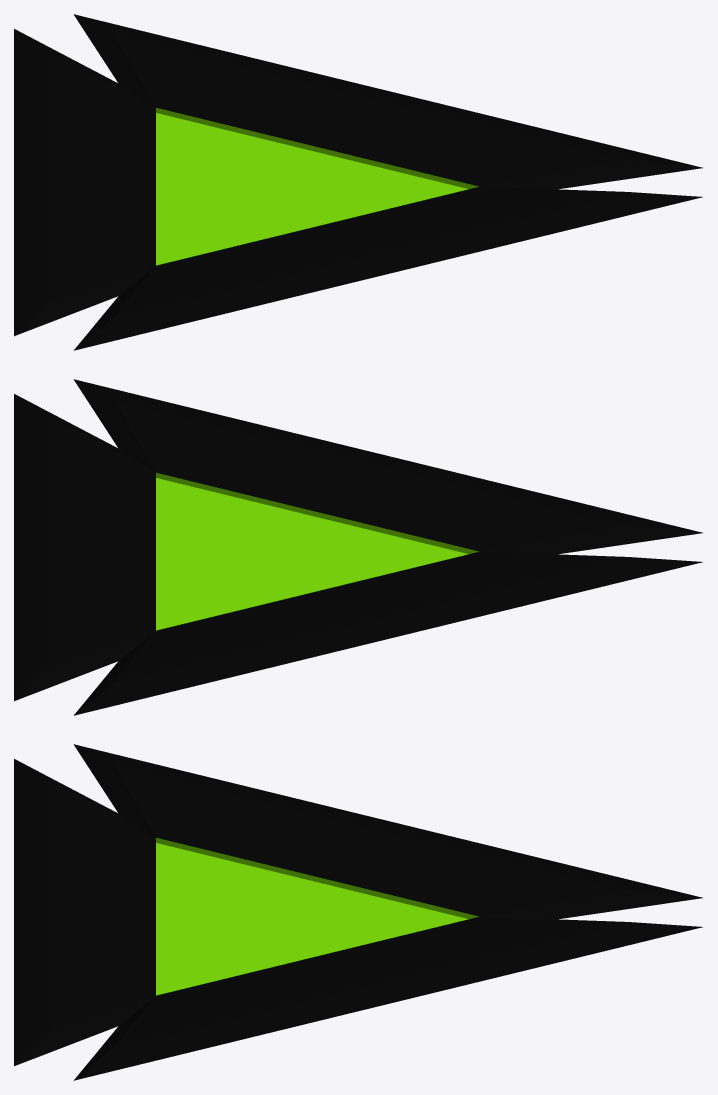
The model's file is Pad.fbx.
3 views of the same model, one above another, from view 1: azimuth 30°, elevation 25°; view 2: azimuth 150°, elevation 25°; view 3: azimuth 270°, elevation 25° (orthographic).
Visible parts, largest first — view 1: SpiderLaunchPad; view 2: SpiderLaunchPad; view 3: SpiderLaunchPad.
Boxes of the visible parts, x1,y1,x2,y2 form: SpiderLaunchPad: (14,14,702,350); SpiderLaunchPad: (14,379,702,715); SpiderLaunchPad: (14,744,702,1080).
Size of the model in its own units: 441 by 14.8 by 382.
